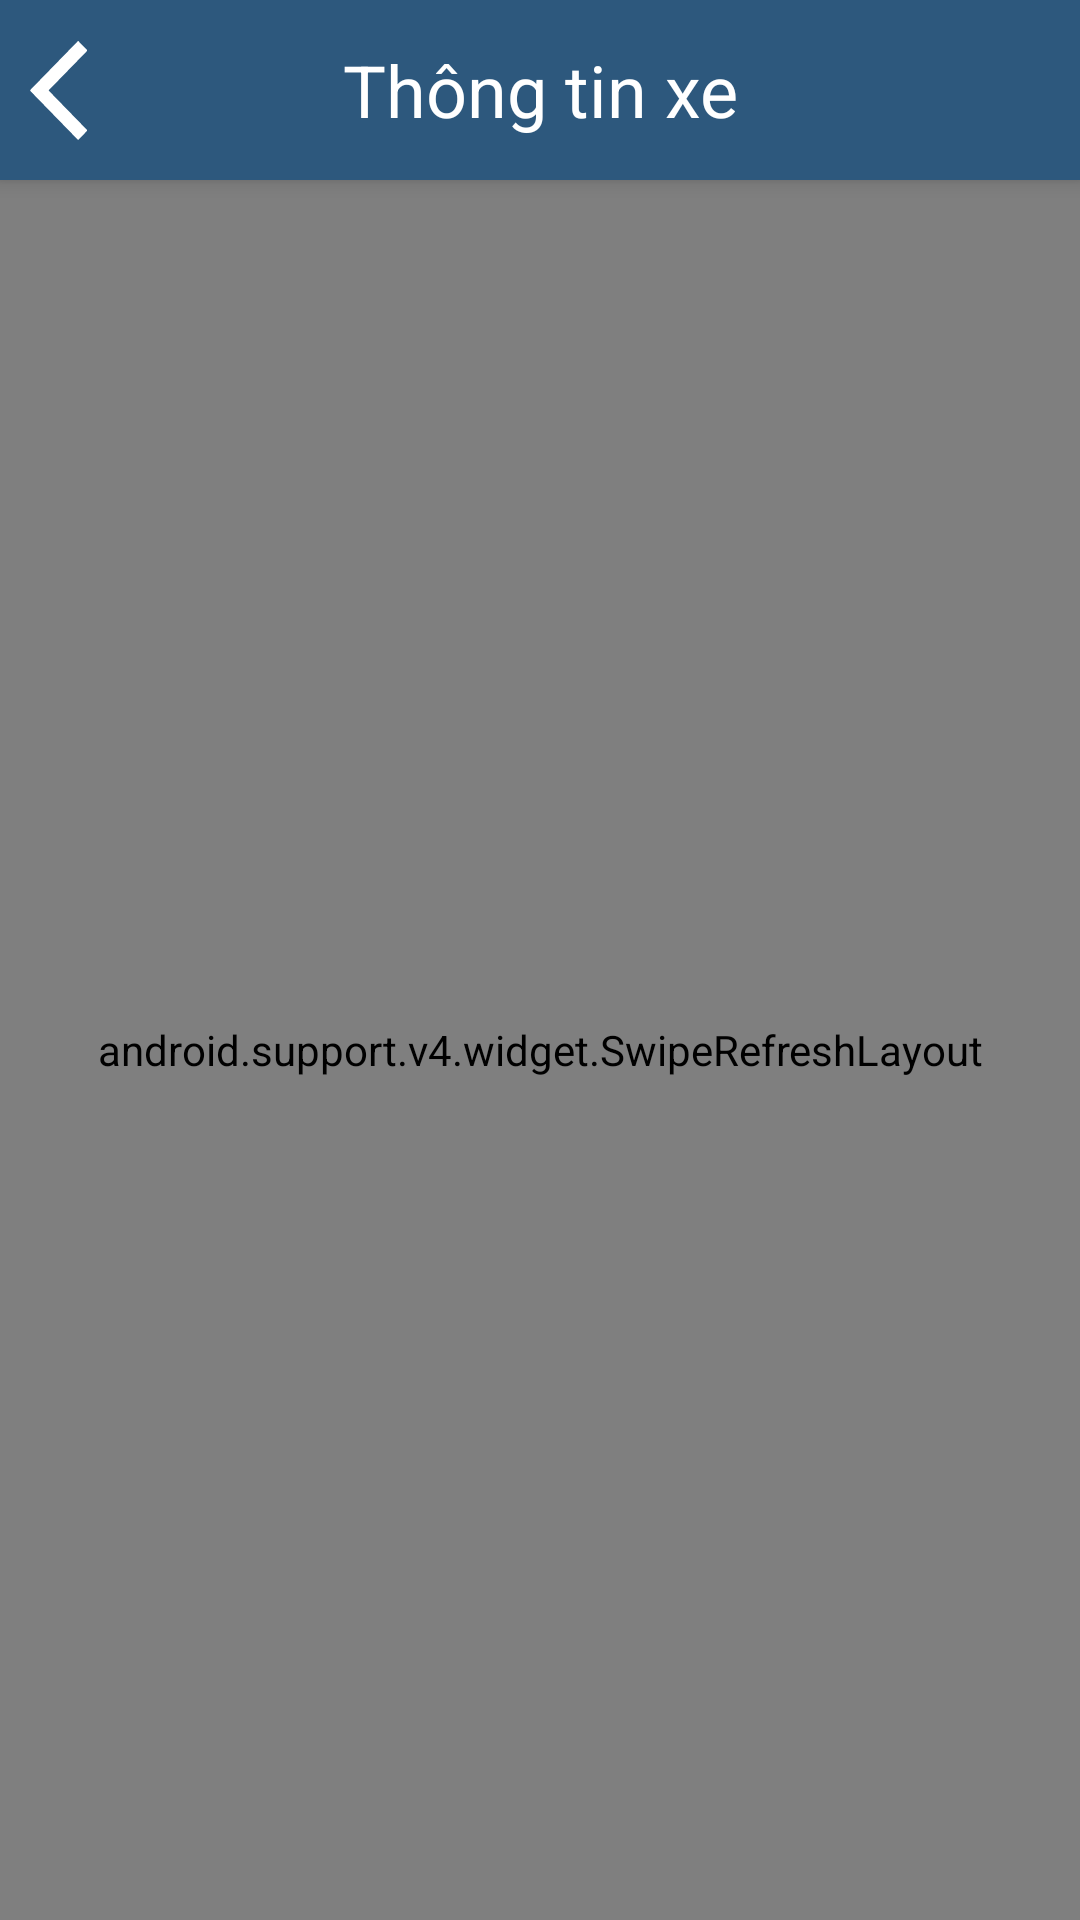

Screen size 1080px x 1920px. Icon name, then its box in pixels as (x1,y1,x2,y2):
back: (30,41,87,140)
